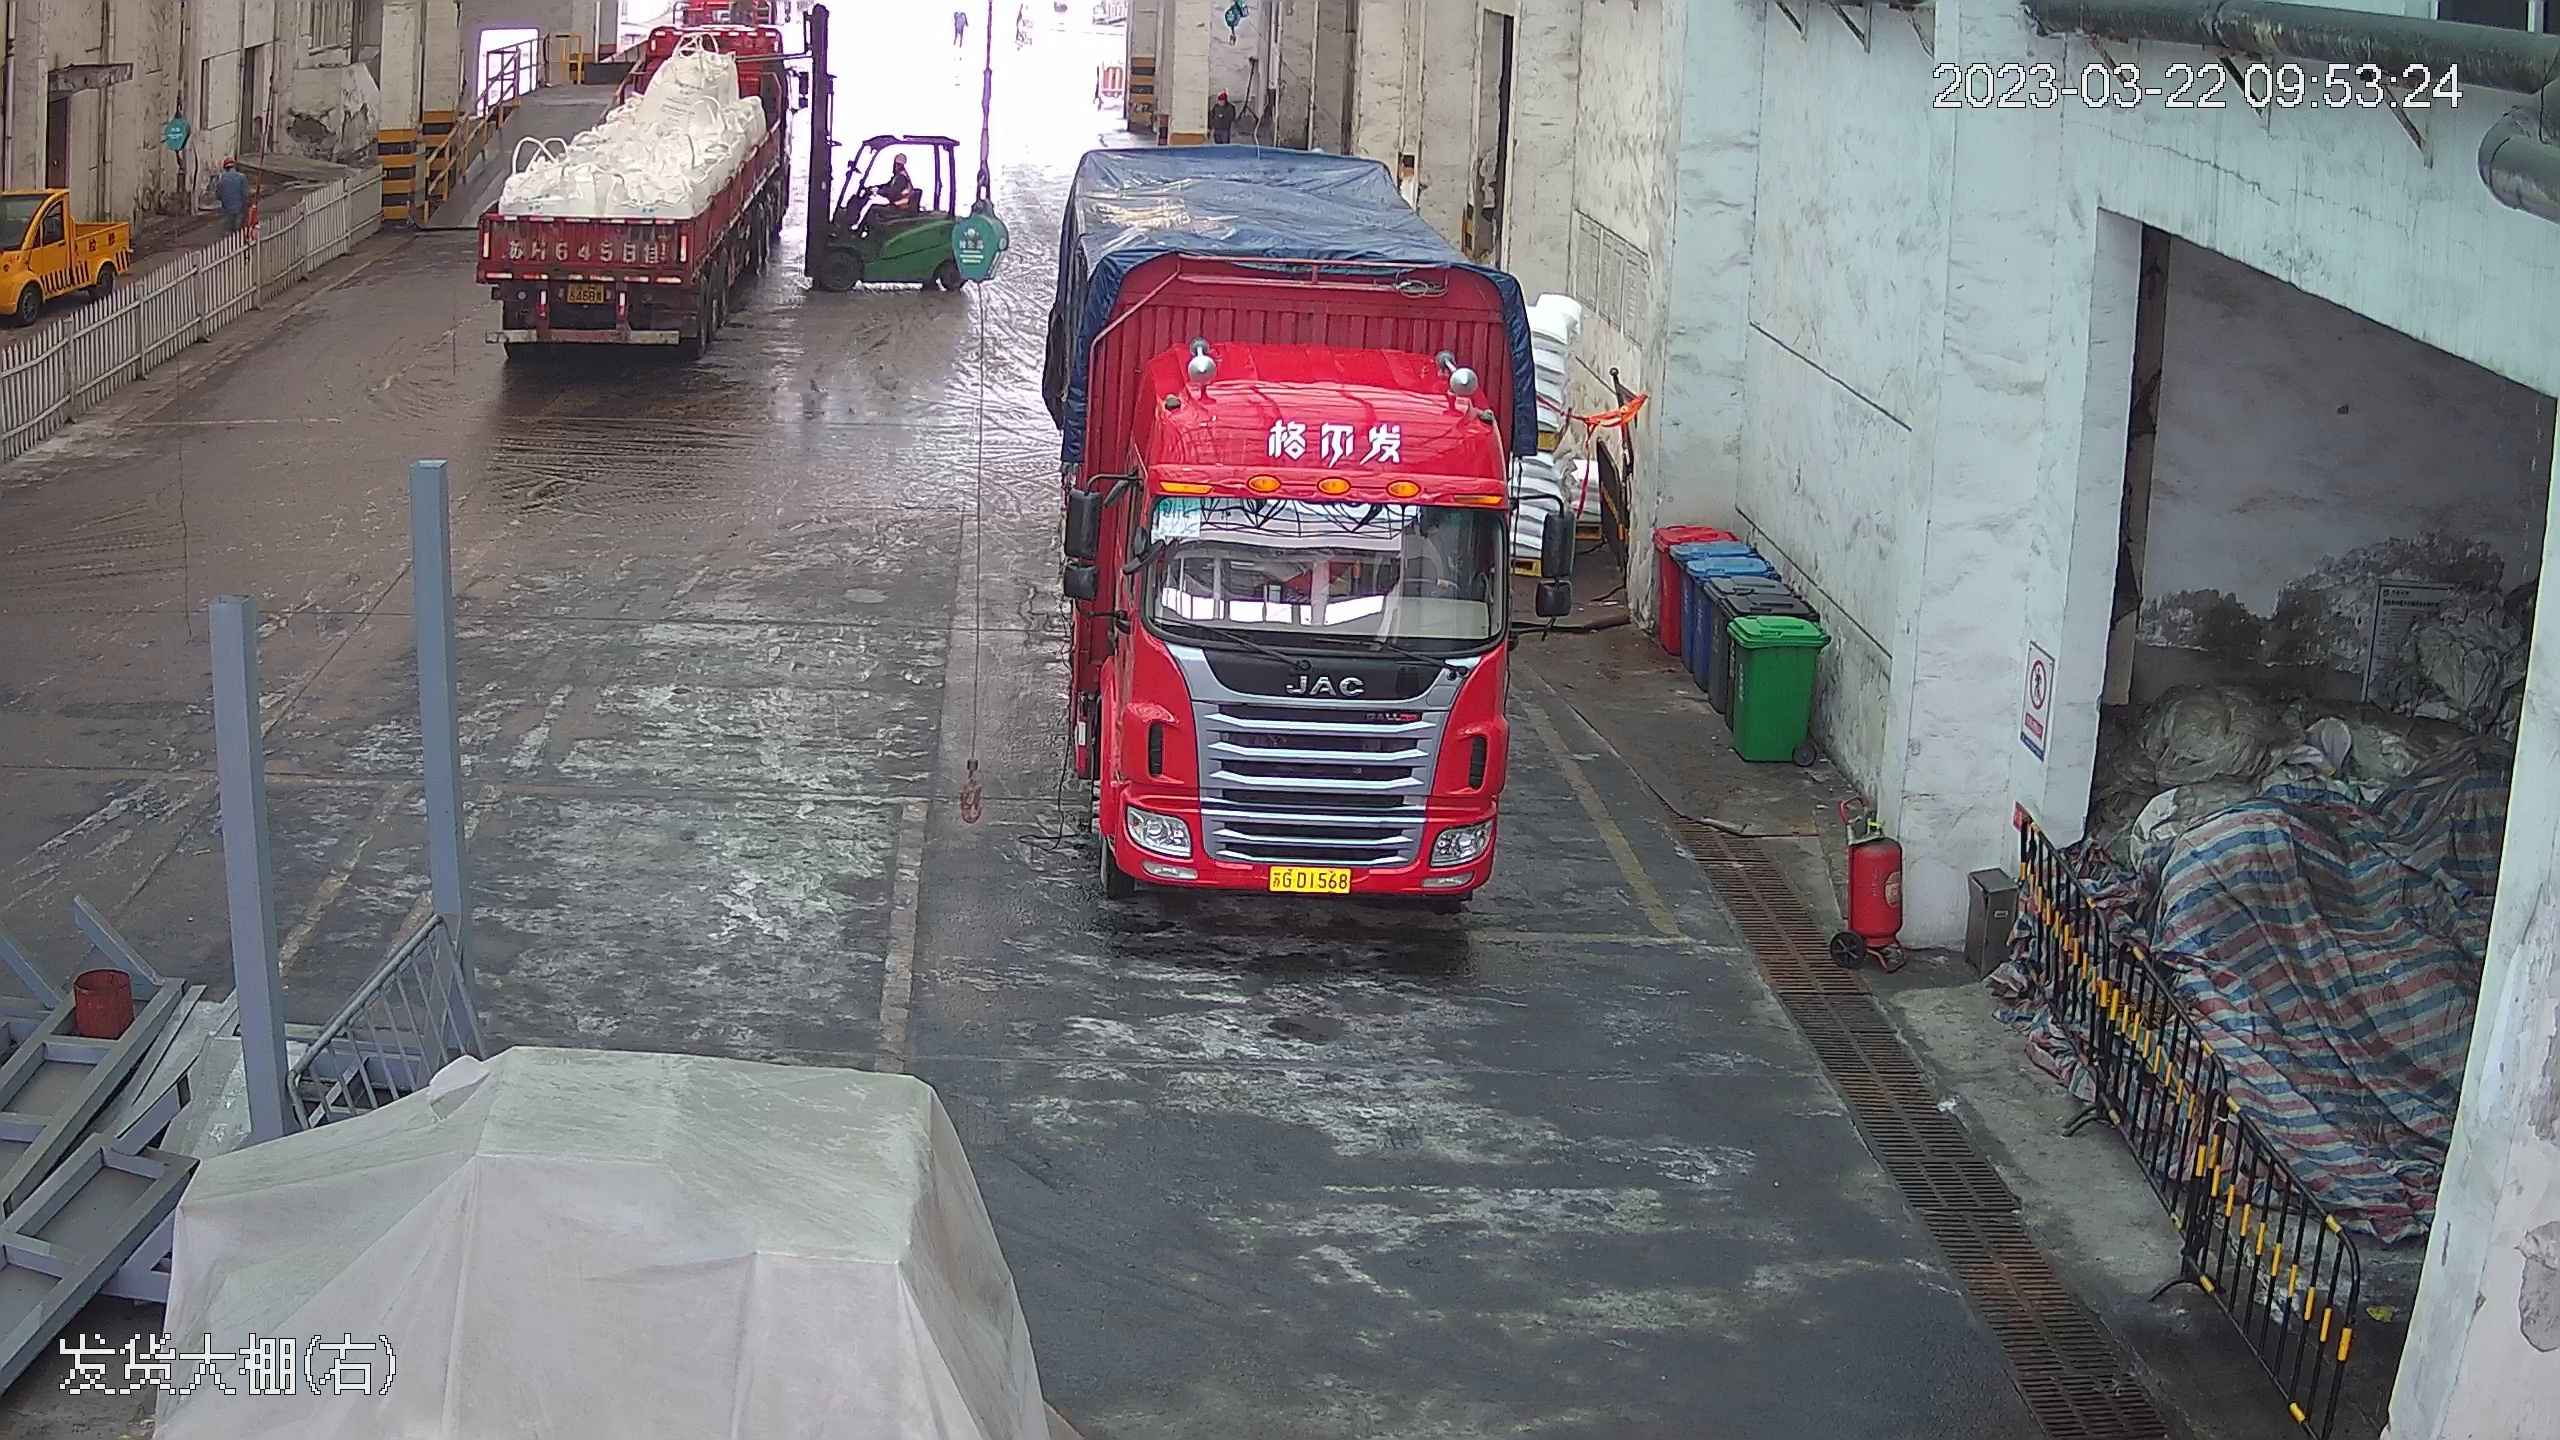head: (214, 156, 247, 190), (885, 153, 909, 190)
helmet: (894, 149, 908, 167), (222, 157, 234, 166)
people: (857, 143, 915, 232), (214, 153, 249, 234)
truck: (1025, 68, 1553, 923), (470, 7, 805, 349)
